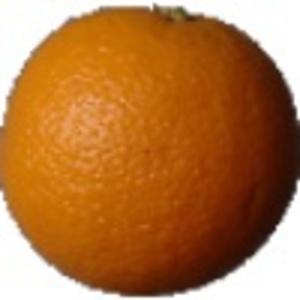laranja: (2, 4, 298, 297)
